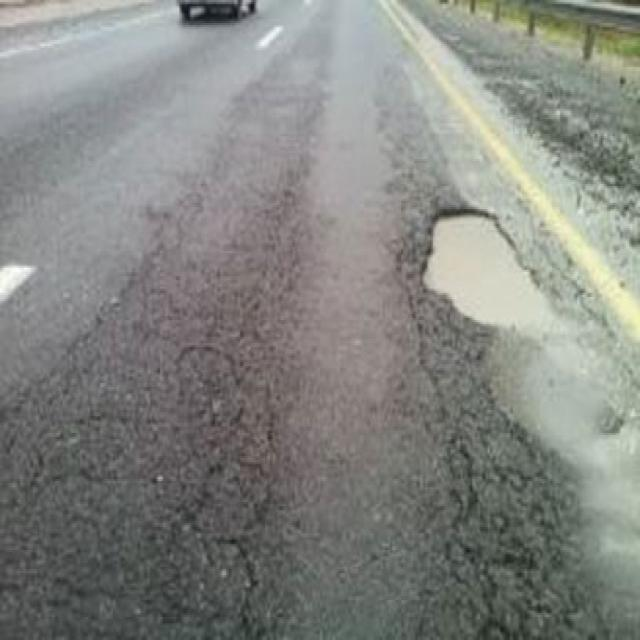major_pothole: (413, 198, 549, 330)
